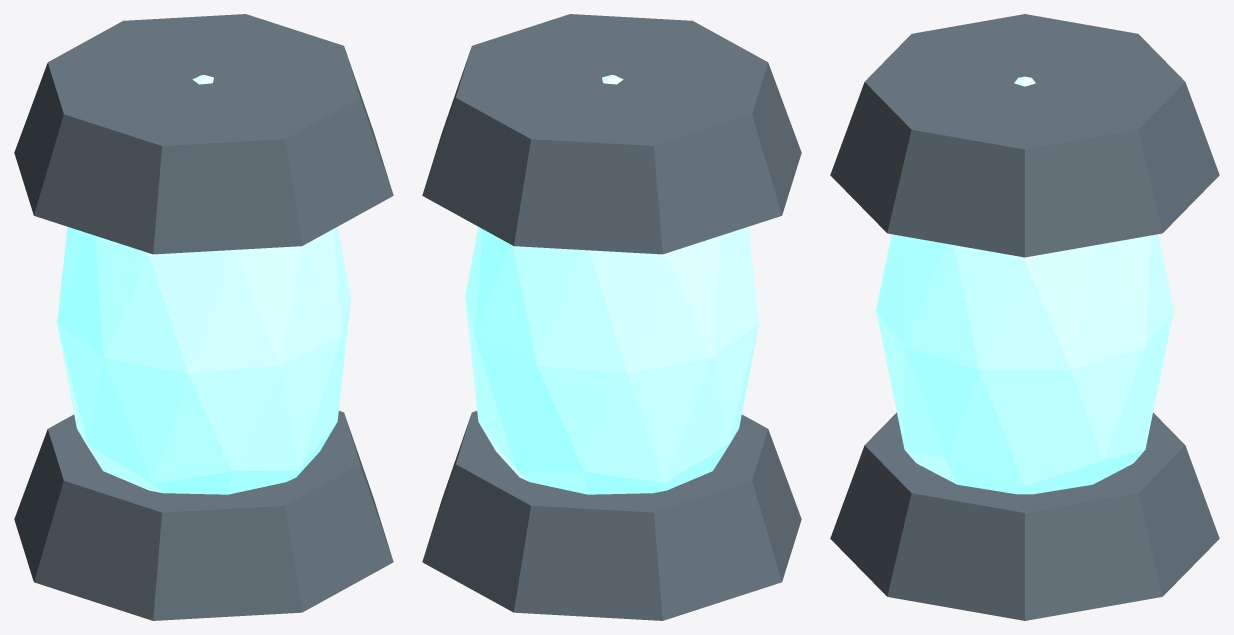
The model's file is core.glb.
3 renders of one model, left to right at view 1: azimuth 30°, elevation 25°; view 2: azimuth 150°, elevation 25°; view 3: azimuth 270°, elevation 25°, orthographic.
Parts seen in each view (by area): view 1: Core casing.001, Core heart, Core casing; view 2: Core casing.001, Core heart, Core casing; view 3: Core casing.001, Core heart, Core casing.
Part boxes in pixels (x1=…): Core casing.001: x1=14, y1=14, x2=393, y2=254; Core heart: x1=57, y1=75, x2=350, y2=494; Core casing: x1=14, y1=411, x2=393, y2=620; Core casing.001: x1=422, y1=14, x2=801, y2=254; Core heart: x1=465, y1=75, x2=758, y2=494; Core casing: x1=422, y1=411, x2=801, y2=620; Core casing.001: x1=830, y1=14, x2=1219, y2=257; Core heart: x1=876, y1=76, x2=1173, y2=494; Core casing: x1=830, y1=412, x2=1219, y2=620.
Bounding box in the file's own units: 0.68 × 0.9 × 0.68.
